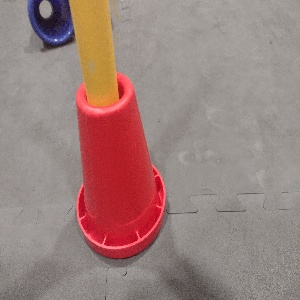Red_1: (70, 71, 168, 261)
